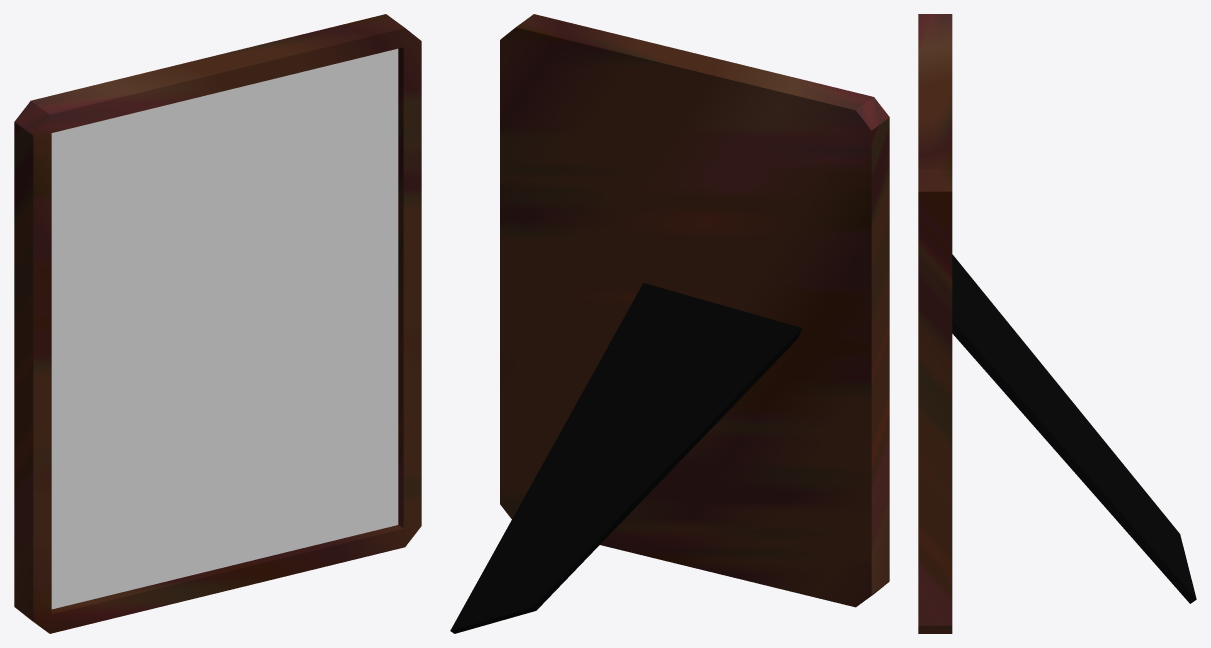
Rendered from PictureFrameDesk.fbx.
The picture shows the model from 3 angles, left to right: view 1: azimuth 30°, elevation 25°; view 2: azimuth 150°, elevation 25°; view 3: azimuth 270°, elevation 25°; orthographic projection. The views are drawn at different scales.
Parts seen in each view (by area): view 1: PictureFrameDesk; view 2: PictureFrameDesk; view 3: PictureFrameDesk.
Boxes of the visible parts, <box> form: PictureFrameDesk: <box>14,14,421,633</box>; PictureFrameDesk: <box>450,14,889,633</box>; PictureFrameDesk: <box>918,14,1196,633</box>.
Size of the model in its own units: 200 by 256 by 139.
